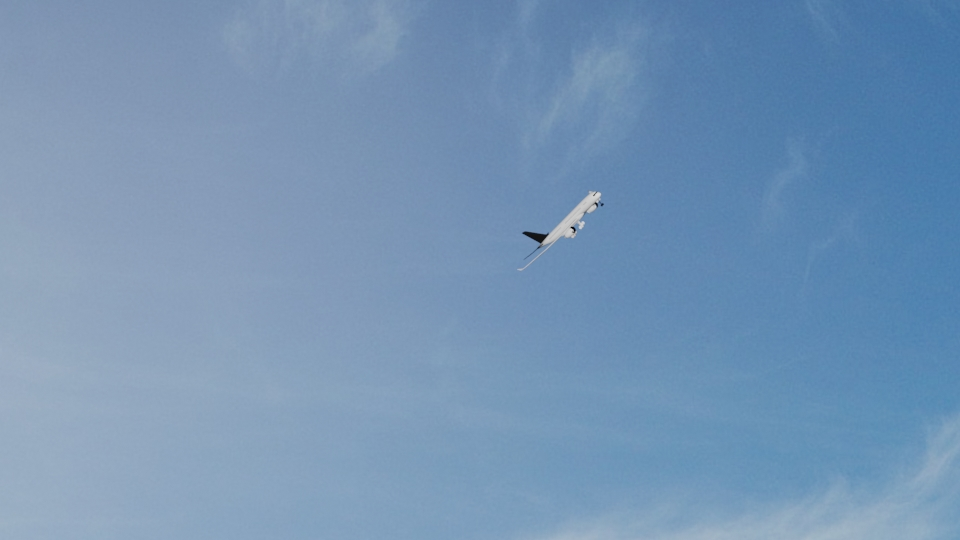plane: (511, 186, 603, 271)
